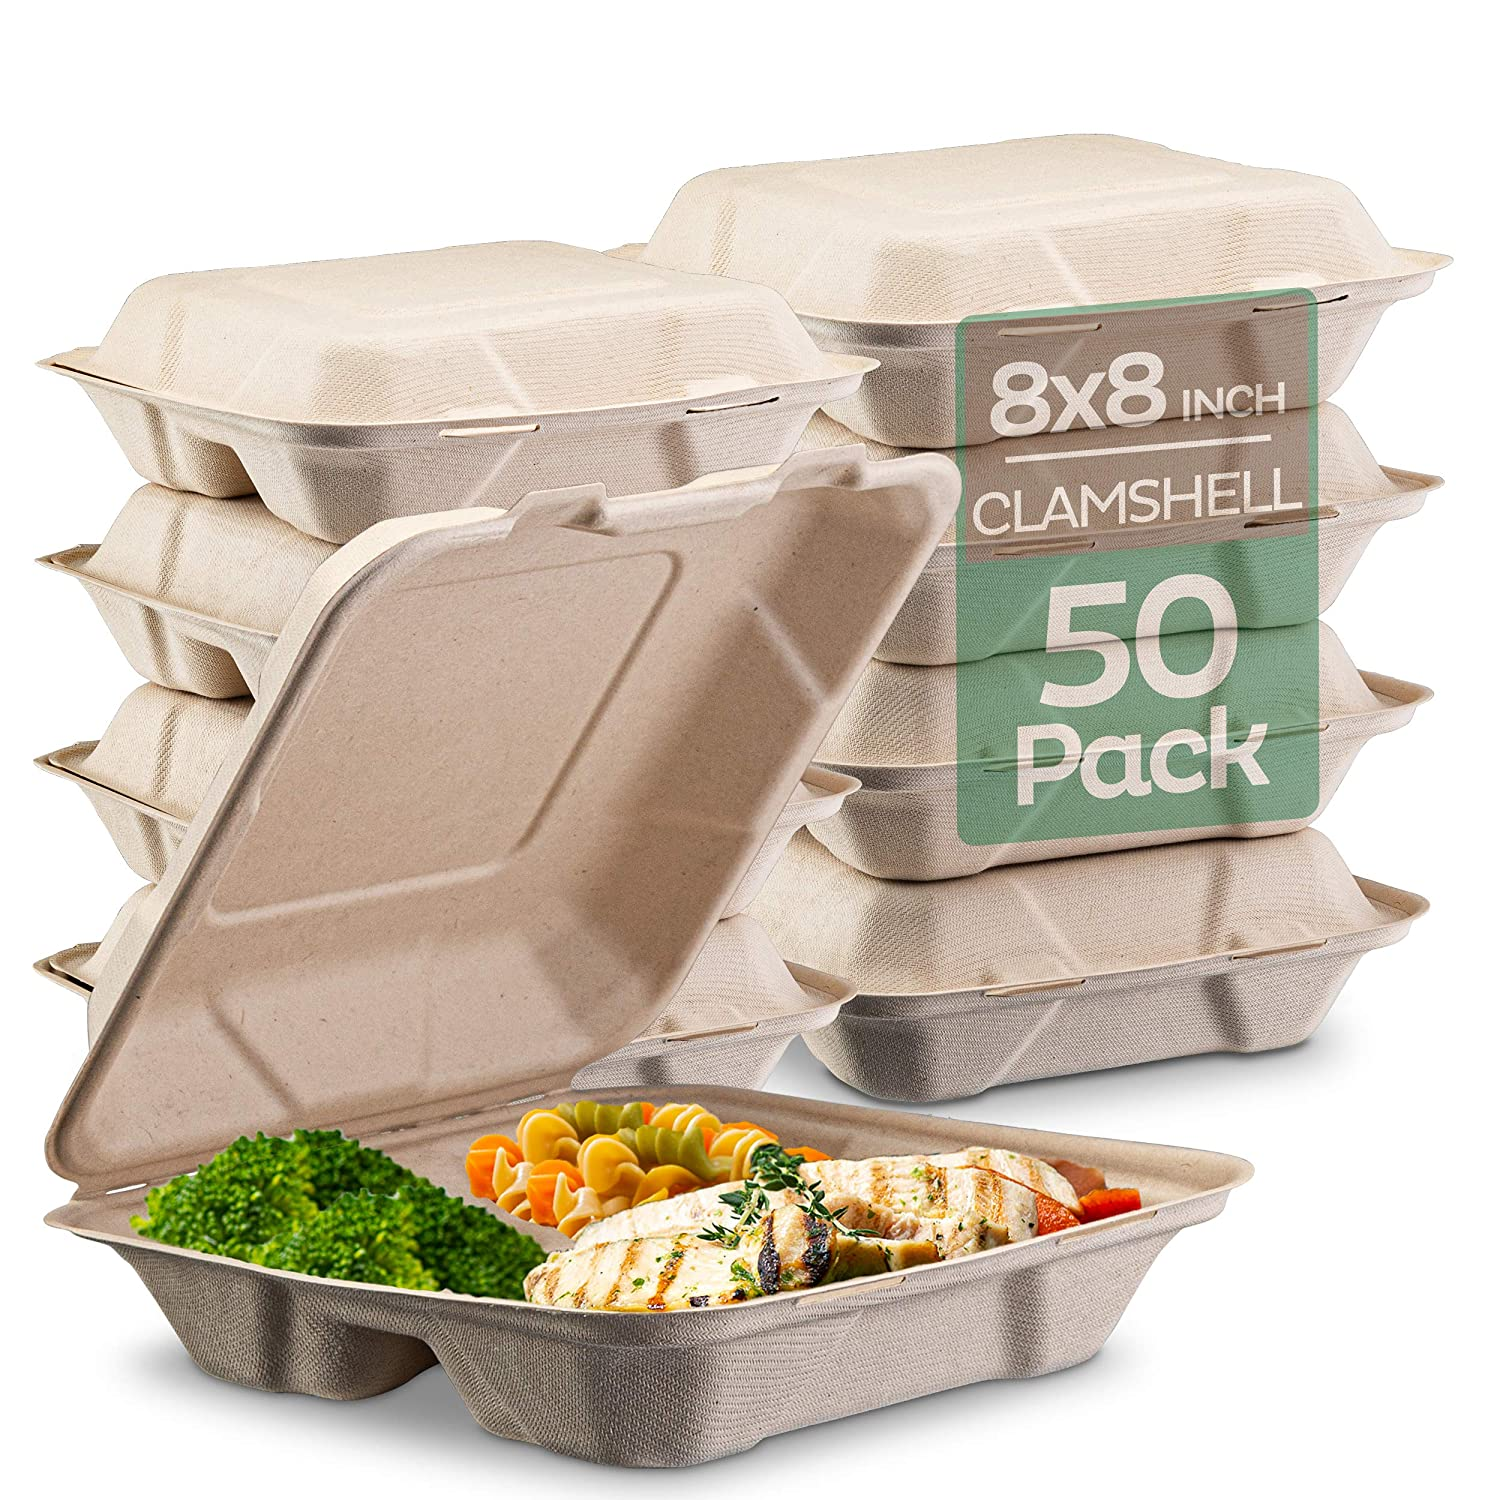styrofoam: (40, 228, 841, 534)
